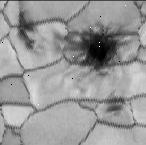good_void: (53, 21, 134, 77), (16, 9, 40, 50), (101, 99, 126, 118), (10, 127, 24, 140)
